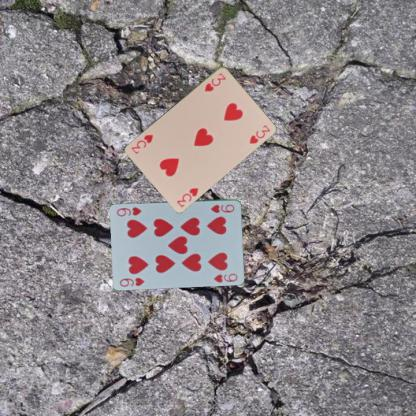3h: (174, 185, 200, 208), (202, 70, 227, 92)
9h: (117, 274, 146, 288), (208, 202, 236, 214)
